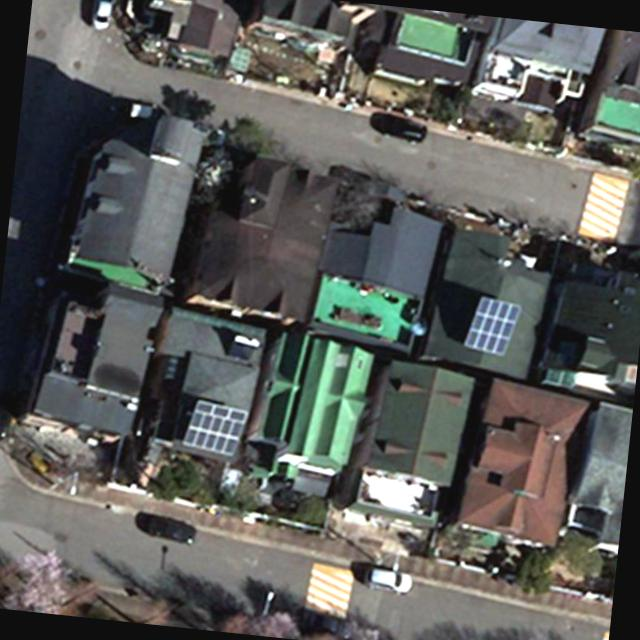solar: (178, 396, 252, 460), (462, 290, 524, 360)
